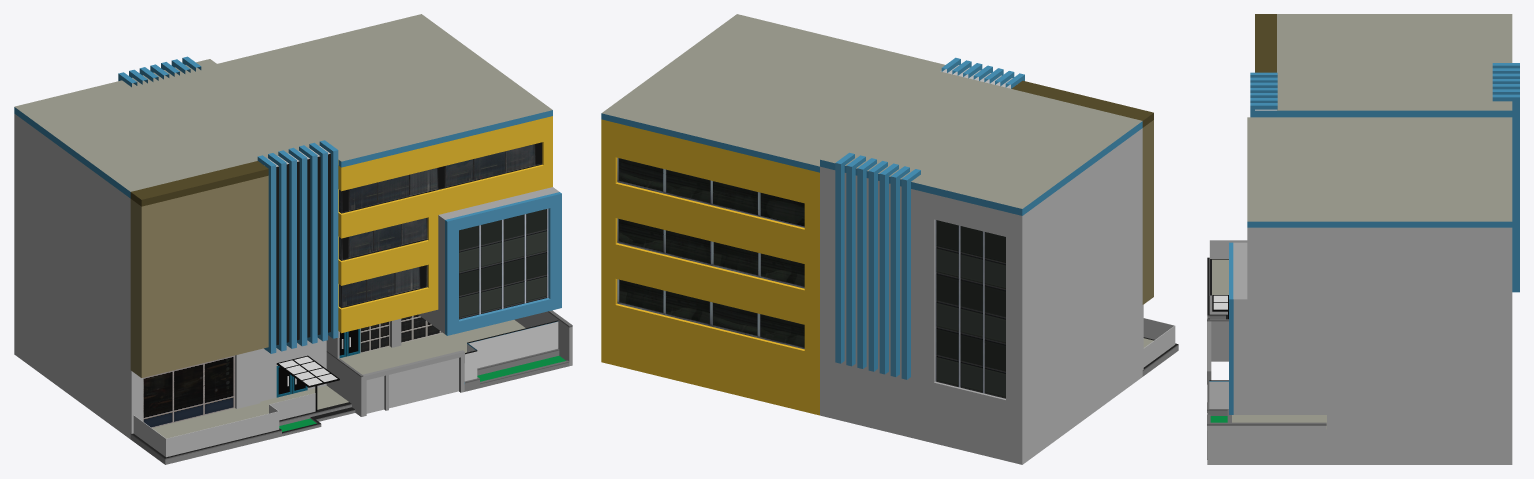
The picture shows the model from 3 angles, left to right: view 1: azimuth 30°, elevation 25°; view 2: azimuth 150°, elevation 25°; view 3: azimuth 270°, elevation 25°; orthographic projection. The views are drawn at different scales.
Visible parts, largest first — view 1: BB-049; view 2: BB-049; view 3: BB-049.
Boxes of the visible parts, x1,y1,x2,y2 form: BB-049: [14, 14, 572, 464]; BB-049: [601, 14, 1178, 464]; BB-049: [1207, 14, 1519, 464].
Size of what is drawn, in the model's own units: 27.03 by 15.96 by 17.79.
